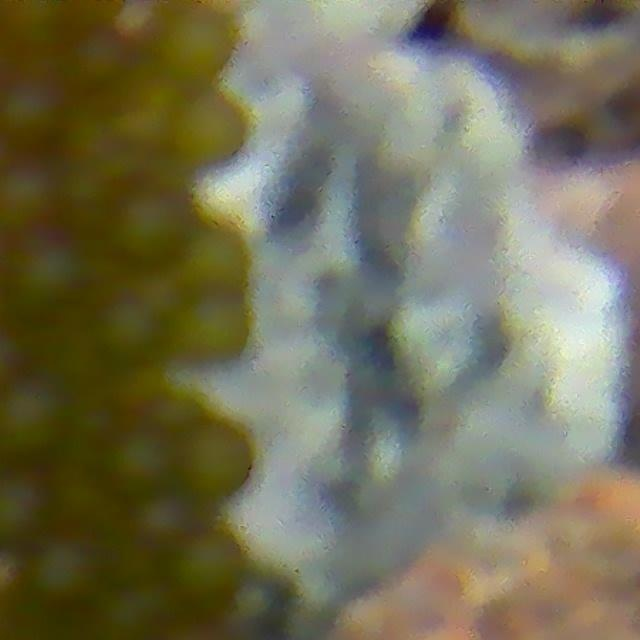SeaGrape: (118, 190, 208, 266), (113, 418, 184, 505), (162, 8, 240, 87), (15, 235, 92, 312), (170, 95, 245, 174), (0, 377, 70, 461), (178, 421, 251, 500), (179, 295, 260, 366), (43, 328, 114, 407), (29, 534, 103, 608), (0, 161, 62, 246), (100, 574, 178, 640), (183, 226, 253, 298), (0, 75, 67, 149), (96, 297, 163, 365), (60, 117, 127, 184), (53, 474, 122, 538), (179, 524, 236, 600), (68, 26, 131, 90), (0, 470, 51, 549), (114, 97, 177, 156), (133, 492, 194, 550), (227, 571, 283, 633), (0, 0, 71, 48), (136, 270, 188, 323)
